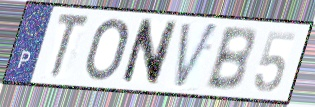5: (253, 29, 299, 94)
B: (202, 25, 256, 93)
N: (118, 17, 181, 88)
O: (83, 16, 131, 83)
T: (48, 12, 92, 82)
V: (172, 21, 221, 93)
